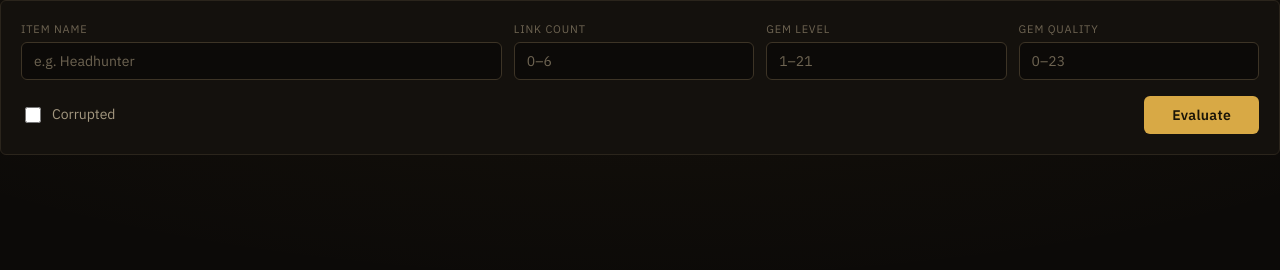
it: InventoryEvaluator › displays "Item not found" when the response has found: false
The width and height of the screenshot is (1280, 270).
Type "Unknown Item" into the field labelled "Item name" at (261, 60), box [21, 42, 502, 80]
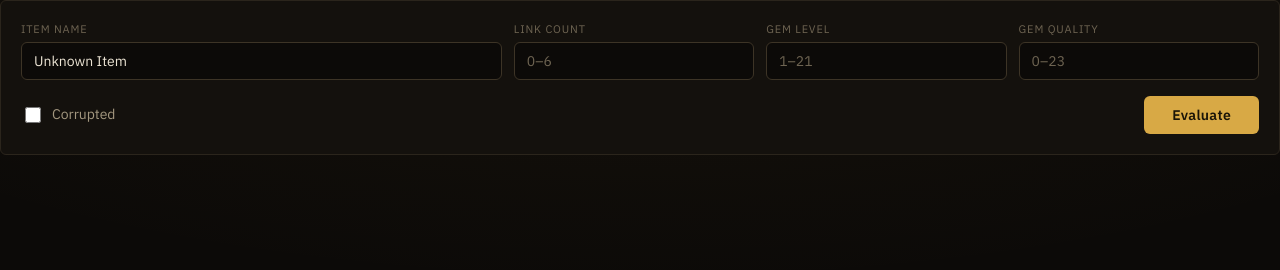
Click the button "Evaluate" at (1202, 114), box [1144, 96, 1259, 134]
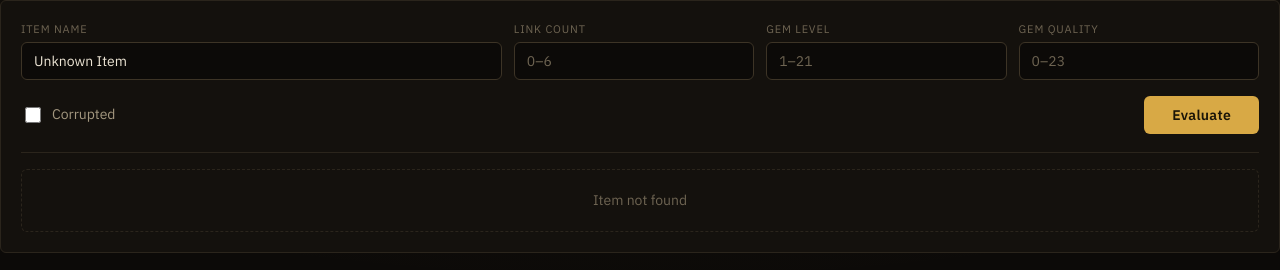
Expected: the text "Item not found" is shown, [21, 168, 1259, 232]
